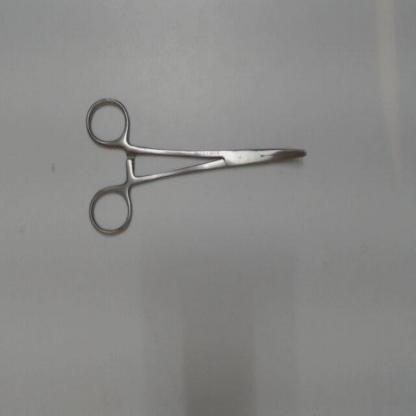Crile Artery Forceps: (85, 90, 314, 238)
